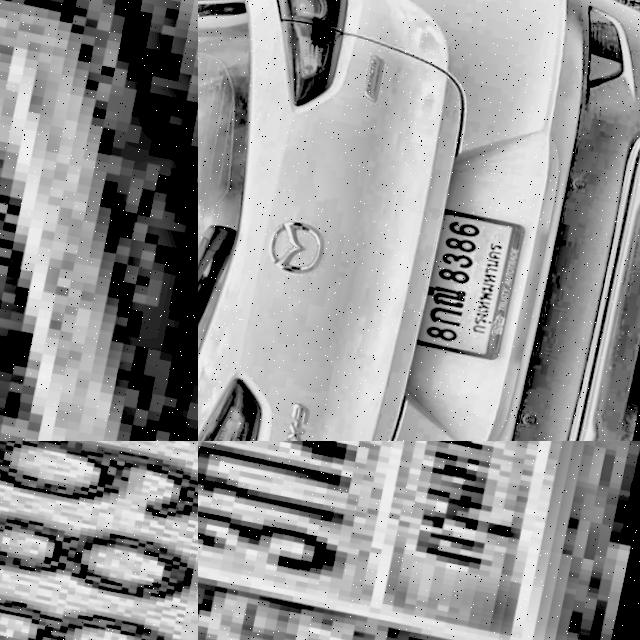license-plate: (198, 441, 640, 640), (0, 0, 198, 441), (0, 441, 198, 640), (412, 201, 531, 359)
